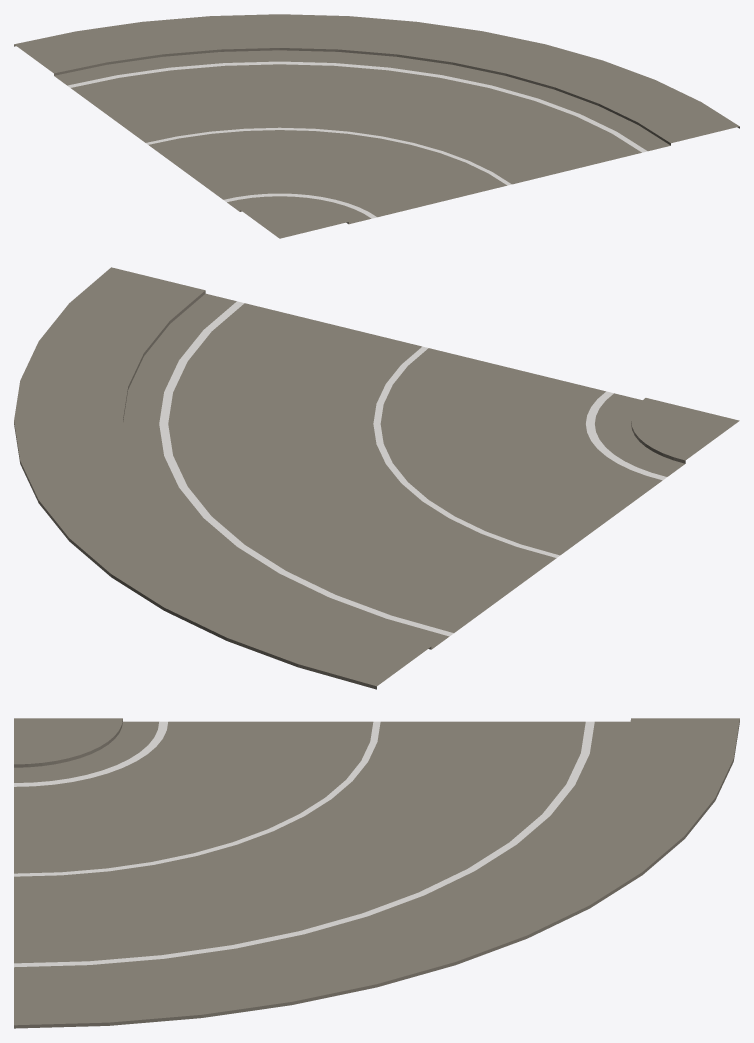
The model's file is bend.fbx.
3 views of the same model, one above another, from view 1: azimuth 30°, elevation 25°; view 2: azimuth 150°, elevation 25°; view 3: azimuth 270°, elevation 25° (orthographic). The views are drawn at different scales.
Visible parts, largest first — view 1: Bend; view 2: Bend; view 3: Bend.
Part boxes in pixels (bbox=[...]): Bend: bbox=[14, 14, 739, 238]; Bend: bbox=[14, 267, 739, 689]; Bend: bbox=[14, 718, 739, 1028].
Size of the model in its own units: 20 by 0.1 by 20.
